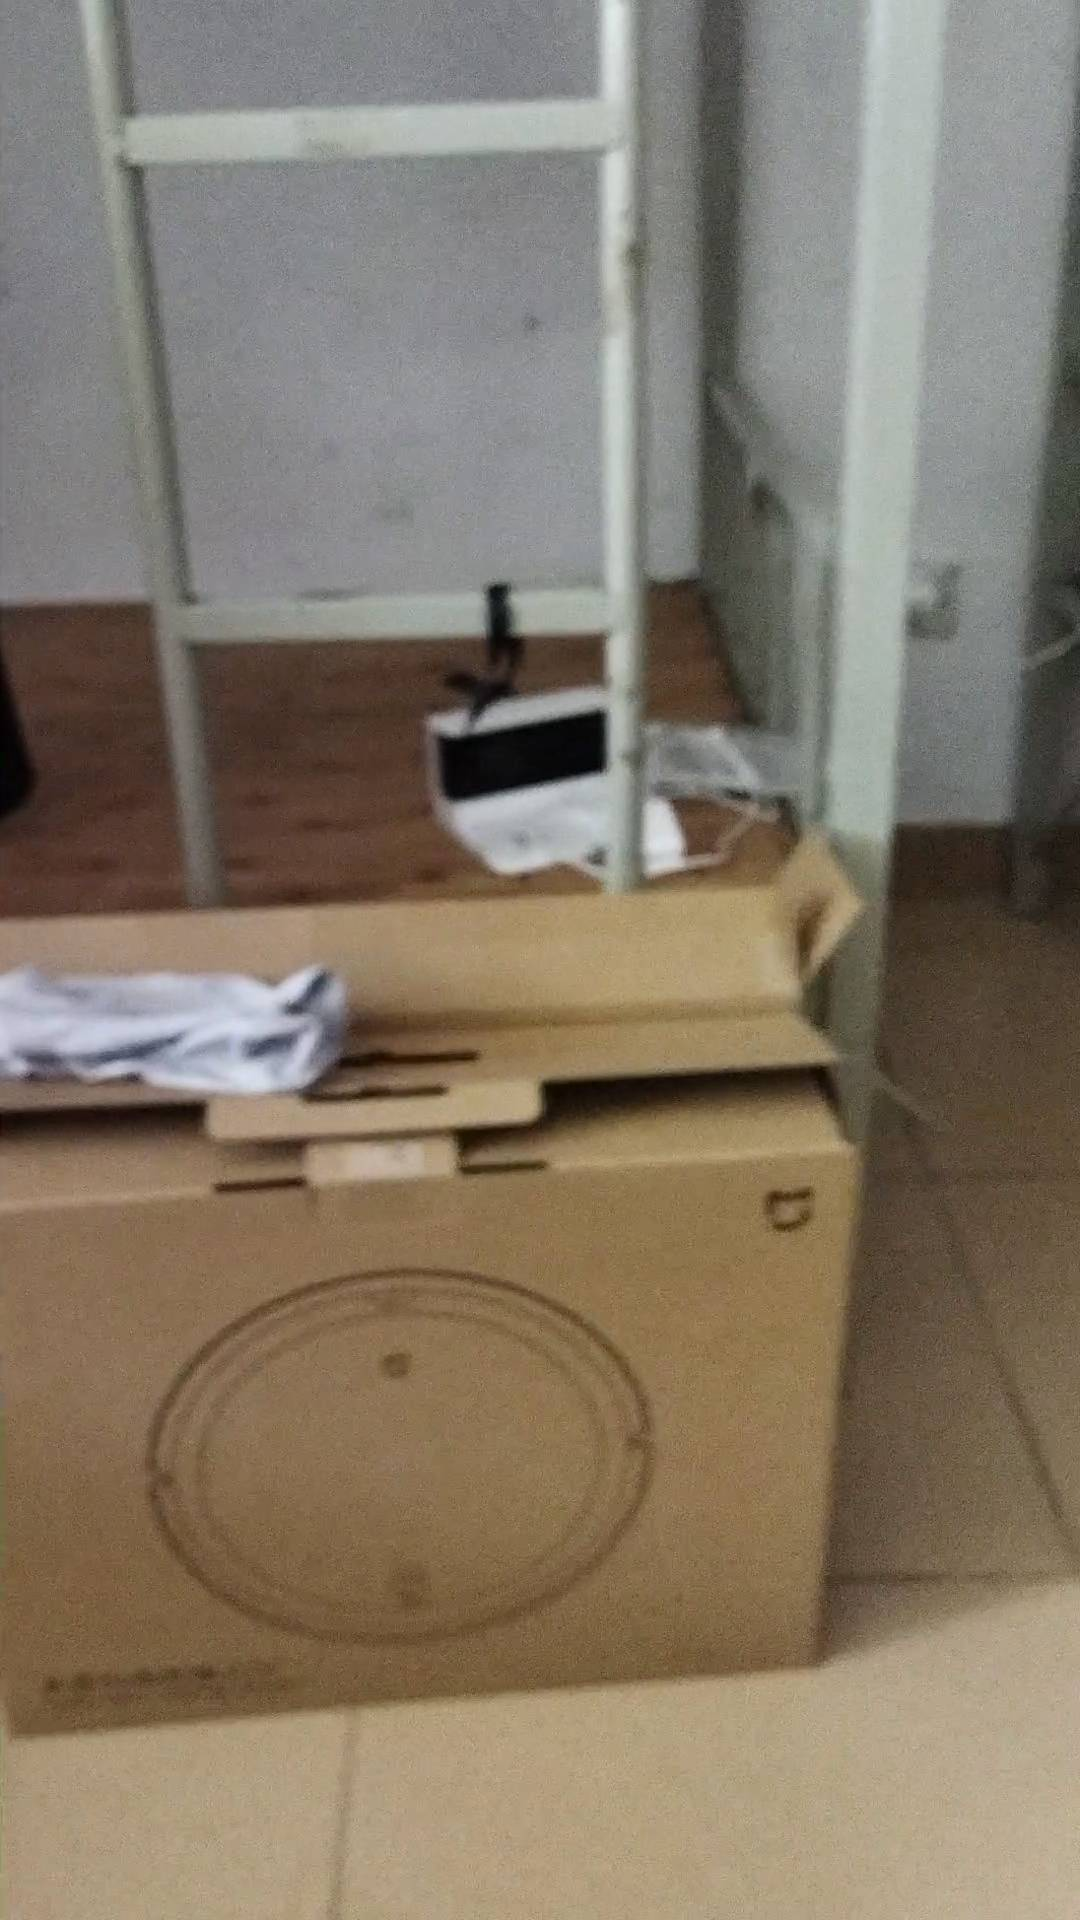recharge seat: (419, 679, 611, 880)
